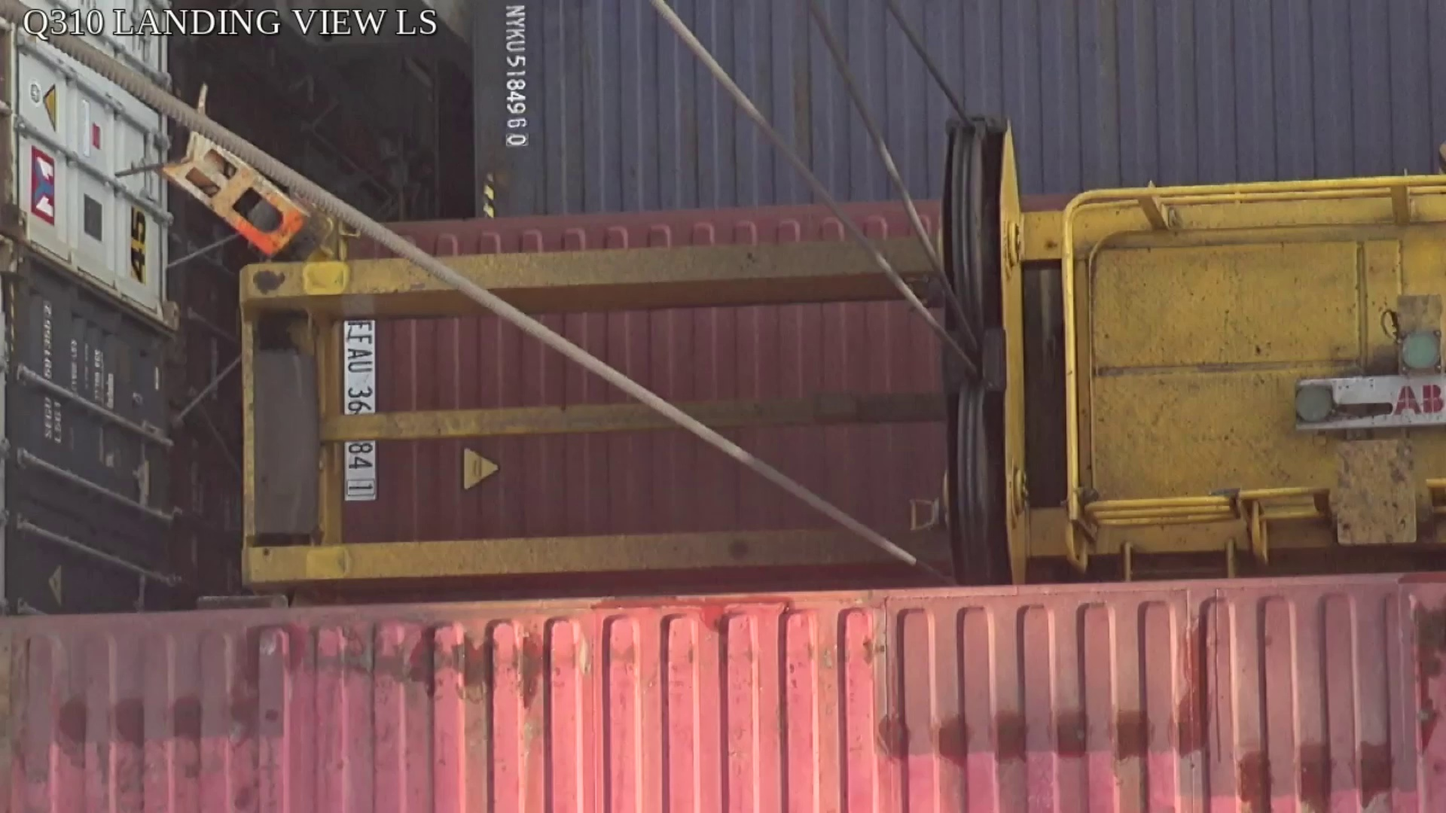aa: (939, 117, 1031, 582)
